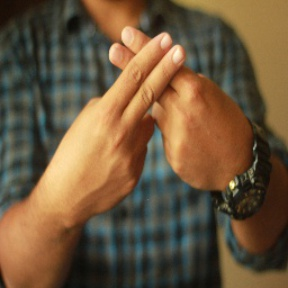F: (79, 17, 225, 165)
